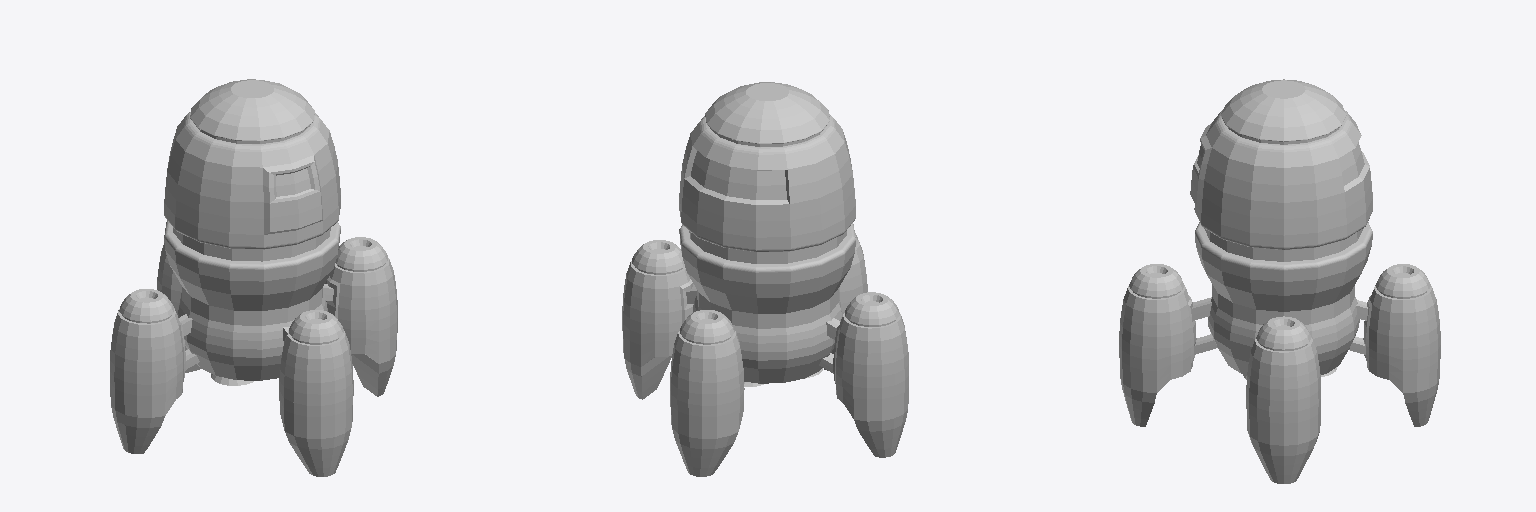
The model's file is Rocket.obj.
3 renders of one model, left to right at view 1: azimuth 30°, elevation 25°; view 2: azimuth 150°, elevation 25°; view 3: azimuth 270°, elevation 25°, orthographic.
Visible parts, largest first — view 1: polySurface1; view 2: polySurface1; view 3: polySurface1.
Boxes of the visible parts, x1,y1,x2,y2 form: polySurface1: [110, 79, 397, 476]; polySurface1: [622, 82, 908, 476]; polySurface1: [1119, 79, 1440, 483].
Bounding box in the file's own units: 4.13 × 4.7 × 4.13.